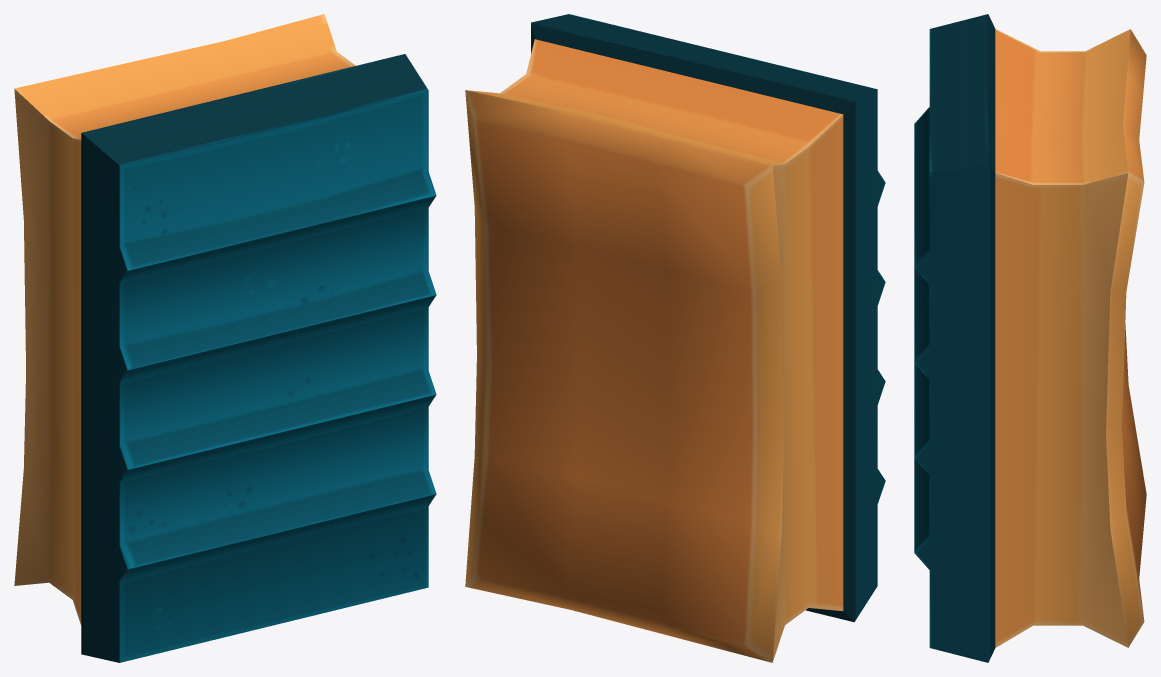
File: cleaners_sponge_1.fbx
3 views of the same model, side by side, from view 1: azimuth 30°, elevation 25°; view 2: azimuth 150°, elevation 25°; view 3: azimuth 270°, elevation 25° (orthographic). The views are drawn at different scales.
Parts seen in each view (by area): view 1: cleaners_sponge_1; view 2: cleaners_sponge_1; view 3: cleaners_sponge_1.
Boxes of the visible parts, x1=… form: cleaners_sponge_1: x1=14, y1=14, x2=436, y2=662; cleaners_sponge_1: x1=465, y1=14, x2=885, y2=662; cleaners_sponge_1: x1=914, y1=14, x2=1146, y2=662.
Size of the model in its own units: 6.62 by 10.19 by 4.31.
